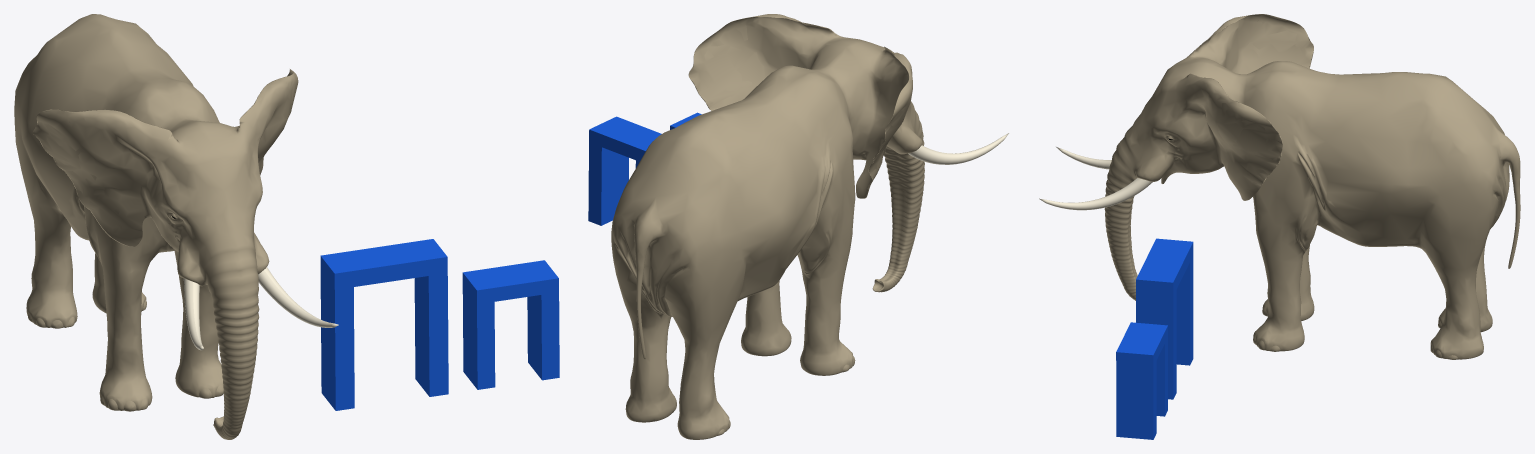
The picture shows the model from 3 angles, left to right: view 1: azimuth 30°, elevation 25°; view 2: azimuth 150°, elevation 25°; view 3: azimuth 270°, elevation 25°; orthographic projection. The views are drawn at different scales.
Visible parts, largest first — view 1: Obj3d66-604642-1-200, Mesh_0.021, Obj3d66-604642-2-287, Obj3d66-604642-3-338; view 2: Obj3d66-604642-1-200, Mesh_0.021, Obj3d66-604642-3-338; view 3: Obj3d66-604642-1-200, Mesh_0.021, Obj3d66-604642-2-287.
Boxes of the visible parts, bbox=[...] form: Obj3d66-604642-1-200: bbox=[14, 14, 298, 439]; Mesh_0.021: bbox=[320, 239, 559, 410]; Obj3d66-604642-2-287: bbox=[258, 267, 338, 327]; Obj3d66-604642-3-338: bbox=[183, 278, 203, 350]; Obj3d66-604642-1-200: bbox=[611, 14, 924, 439]; Mesh_0.021: bbox=[588, 112, 701, 225]; Obj3d66-604642-3-338: bbox=[908, 133, 1008, 164]; Obj3d66-604642-1-200: bbox=[1104, 14, 1520, 359]; Mesh_0.021: bbox=[1116, 238, 1193, 439]; Obj3d66-604642-2-287: bbox=[1039, 178, 1152, 210].
Bounding box in the file's own units: 49.89 × 36.8 × 58.62.
